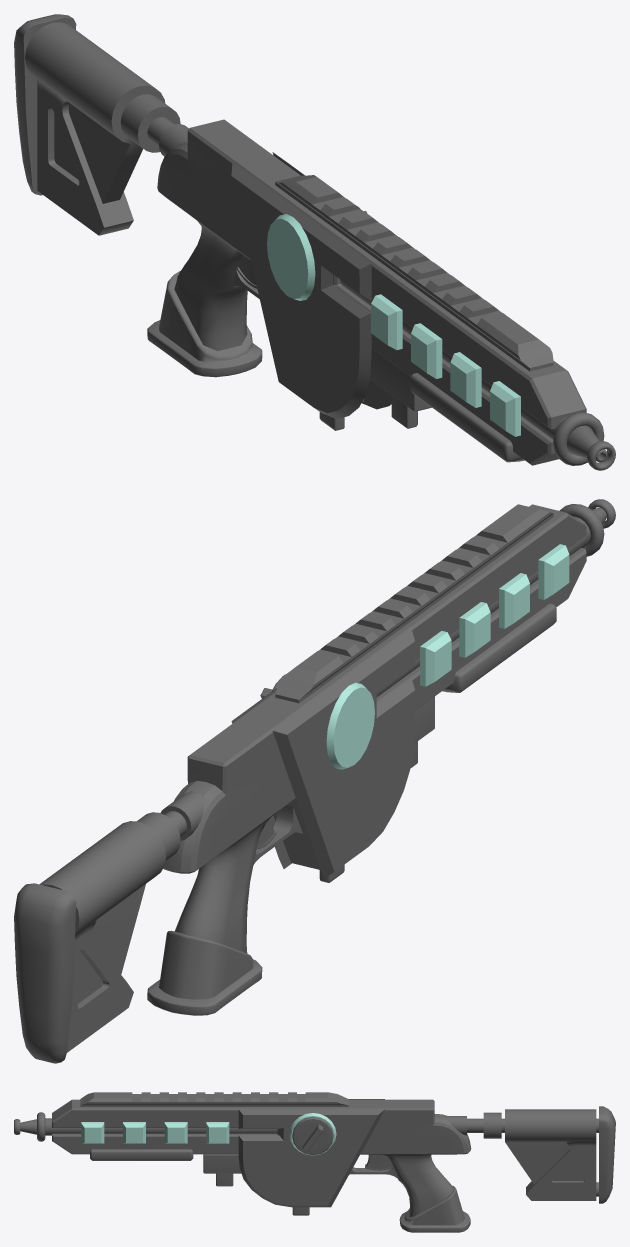
File: AR_tex.fbx
3 renders of one model, top to bottom at view 1: azimuth 30°, elevation 25°; view 2: azimuth 150°, elevation 25°; view 3: azimuth 270°, elevation 25°, orthographic. The views are drawn at different scales.
Parts seen in each view (by area): view 1: AR_Body1, LightingBody; view 2: AR_Body1, LightingBody; view 3: AR_Body1, LightingBody, Mag1, trigger.
Boxes of the visible parts, x1,y1,x2,y2 form: AR_Body1: (14, 14, 615, 470); LightingBody: (267, 214, 520, 436); AR_Body1: (14, 499, 615, 1063); LightingBody: (277, 544, 569, 769); AR_Body1: (14, 1092, 615, 1232); LightingBody: (81, 1113, 336, 1155); Mag1: (292, 1117, 333, 1155); trigger: (365, 1154, 392, 1170).
Bounding box in the file's own units: 7.51 × 20.76 × 87.28.
